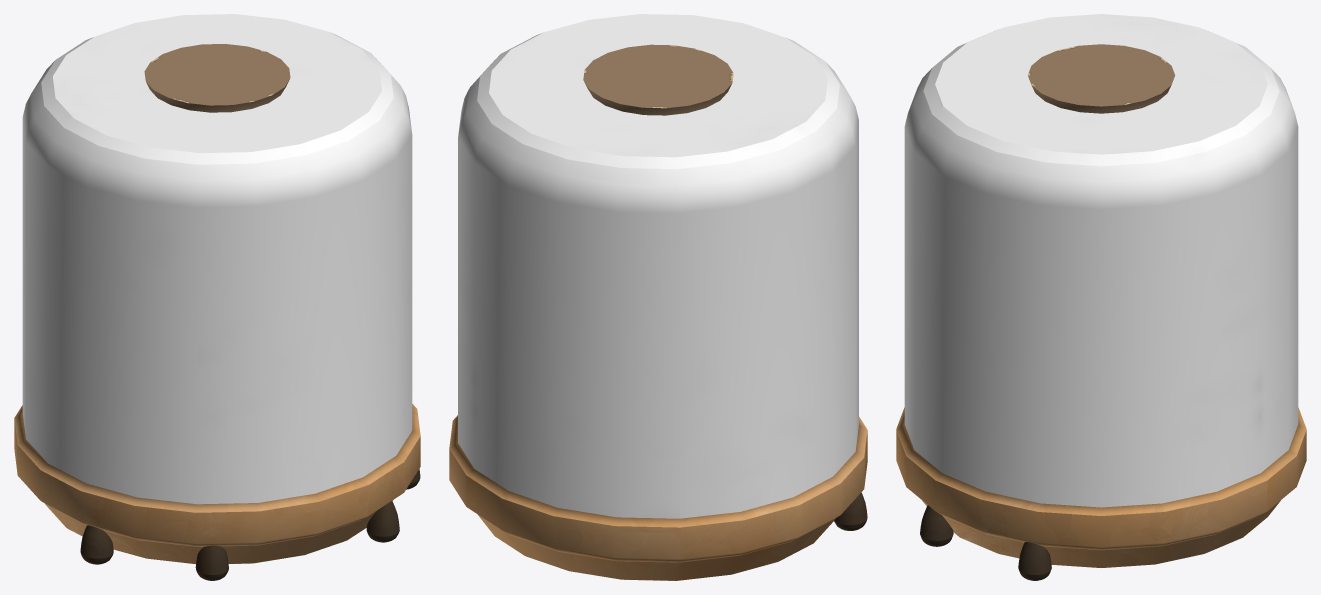
File: egg substance.gltf
3 views of the same model, side by side, from view 1: azimuth 30°, elevation 25°; view 2: azimuth 150°, elevation 25°; view 3: azimuth 270°, elevation 25° (orthographic). The views are drawn at different scales.
Parts seen in each view (by area): view 1: pCylinder2 (×2), pCylinder8, pCylinder6, pCylinder4, pCylinder3; view 2: pCylinder2 (×2), pCylinder8, pCylinder6; view 3: pCylinder2 (×2), pCylinder8, pCylinder5, pCylinder4.
Part boxes in pixels (x1,y1,x2,y2): pCylinder2 (×2): (14,14,420,564); pCylinder8: (144,44,290,112); pCylinder6: (80,525,113,564); pCylinder4: (366,501,399,542); pCylinder3: (195,545,228,580); pCylinder2 (×2): (449,14,867,580); pCylinder8: (583,44,733,115); pCylinder6: (834,492,867,530); pCylinder2 (×2): (896,14,1306,567); pCylinder8: (1027,44,1175,113); pCylinder5: (1018,542,1051,580); pCylinder4: (920,505,953,546).
Bounding box in the file's own units: 0.0247 × 0.0283 × 0.0247.
8 materials, 8 textured.
